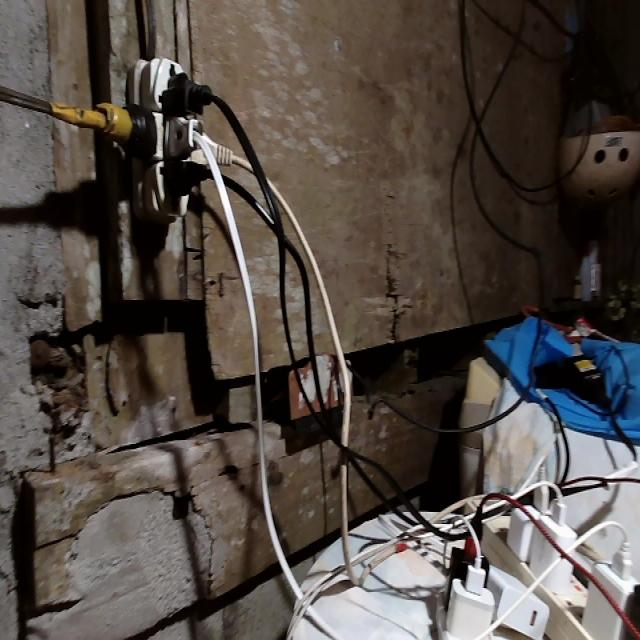-: (90, 48, 231, 227)
